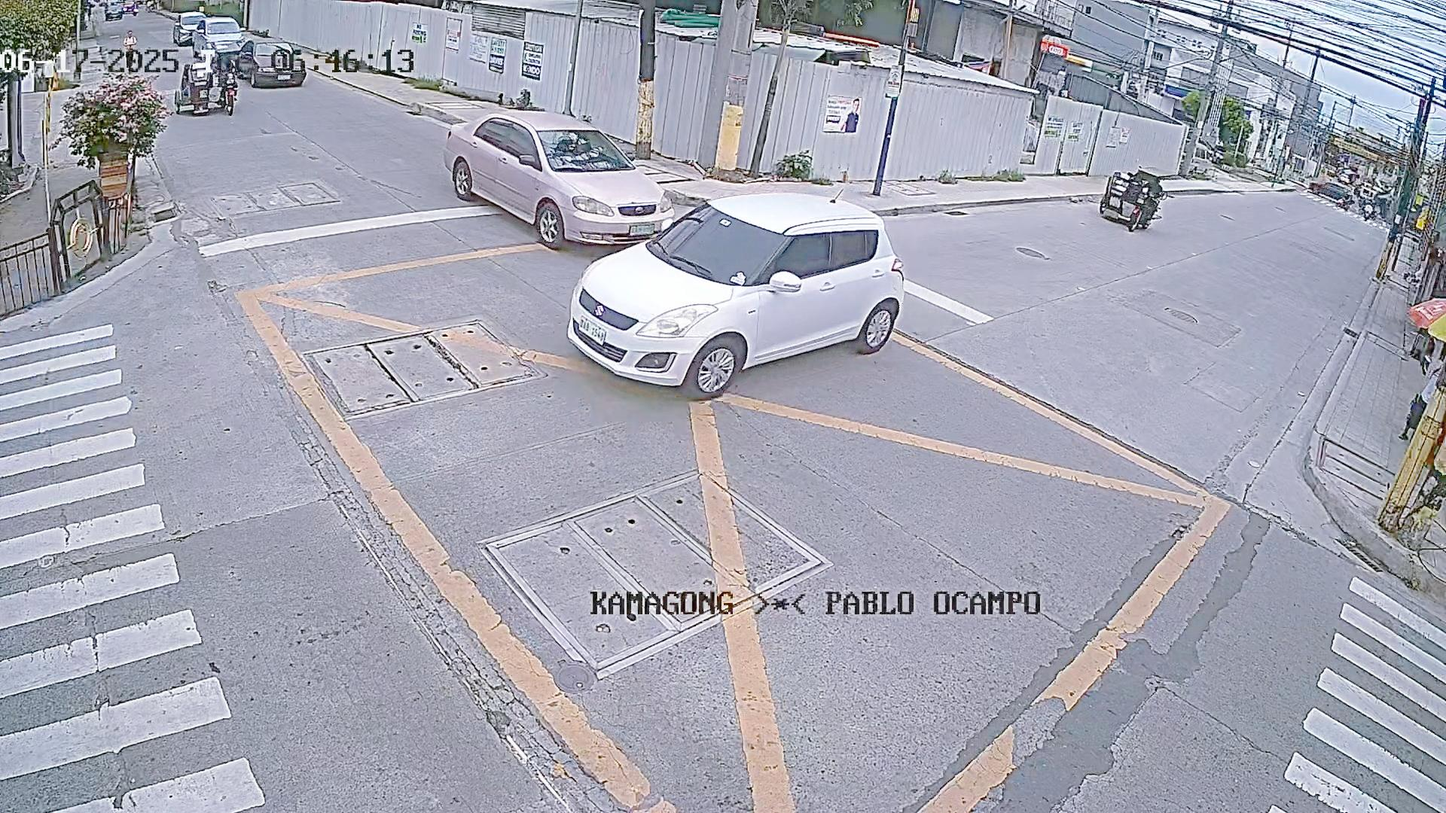Car: (557, 209, 943, 434), (410, 85, 679, 249)
Not Accident: (387, 89, 923, 374)
